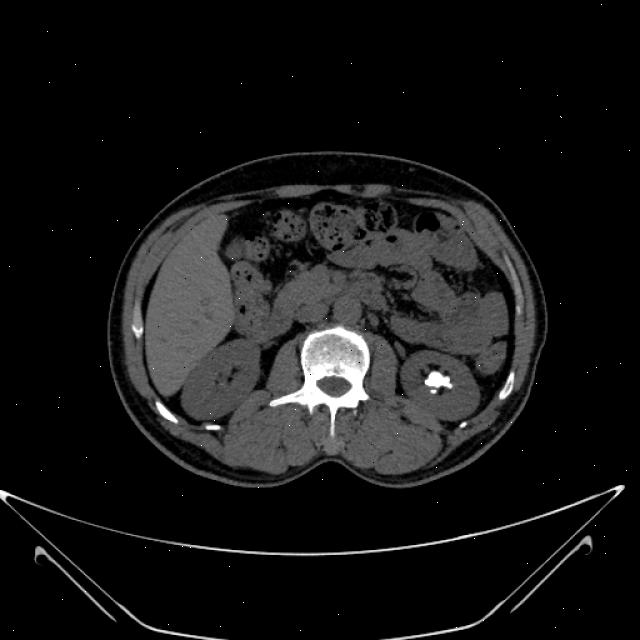kidneystone: (424, 371, 452, 394)
